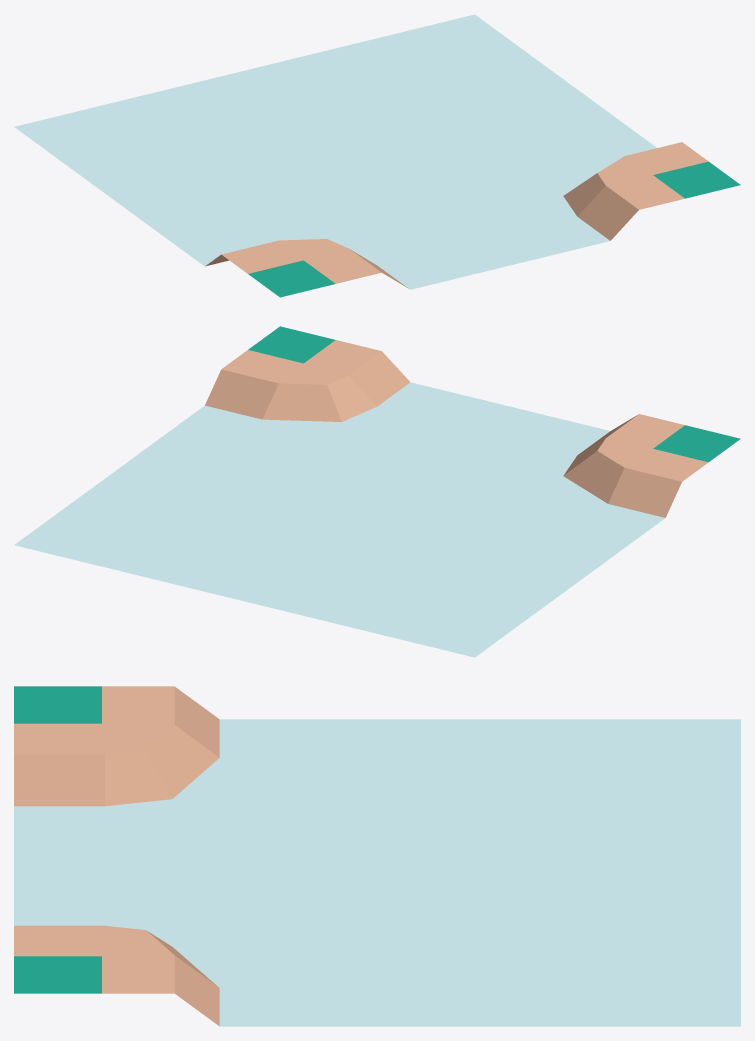
File: ground_riverSideOpen.glb
3 views of the same model, one above another, from view 1: azimuth 30°, elevation 25°; view 2: azimuth 150°, elevation 25°; view 3: azimuth 270°, elevation 25° (orthographic). The views are drawn at different scales.
Visible parts, largest first — view 1: ground_riverSideOpen; view 2: ground_riverSideOpen; view 3: ground_riverSideOpen.
Part boxes in pixels (x1,y1,x2,y2): ground_riverSideOpen: (14, 14, 740, 297); ground_riverSideOpen: (14, 326, 740, 657); ground_riverSideOpen: (14, 686, 740, 1026).
Size of the model in its own units: 1.2 by 0.06 by 1.2.
